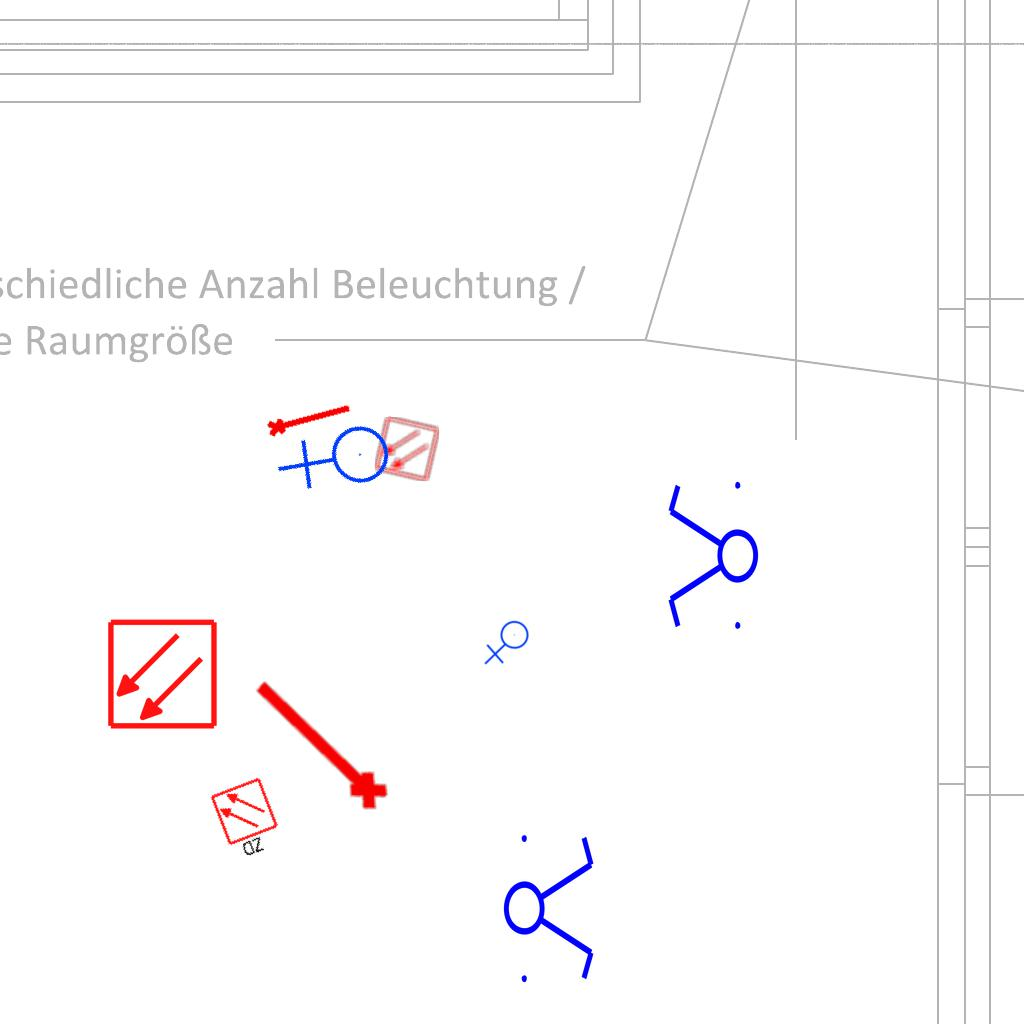ASR_Ansaugoeffnung: (238, 667, 398, 823), (263, 395, 355, 440)
Elektroanschluss_allgemein_230V_Geraeteanschlussdose_230V: (273, 395, 408, 529), (484, 620, 533, 667)
RMO_Rauchmelder_optischer: (106, 618, 219, 731), (373, 415, 441, 483)
Serienschalter: (502, 823, 598, 991), (664, 473, 760, 641)
ZD_Melder_in_Zwischendecke_mit_Revisionsoeffnung_mind_40_x_40_cm: (208, 775, 289, 865)
